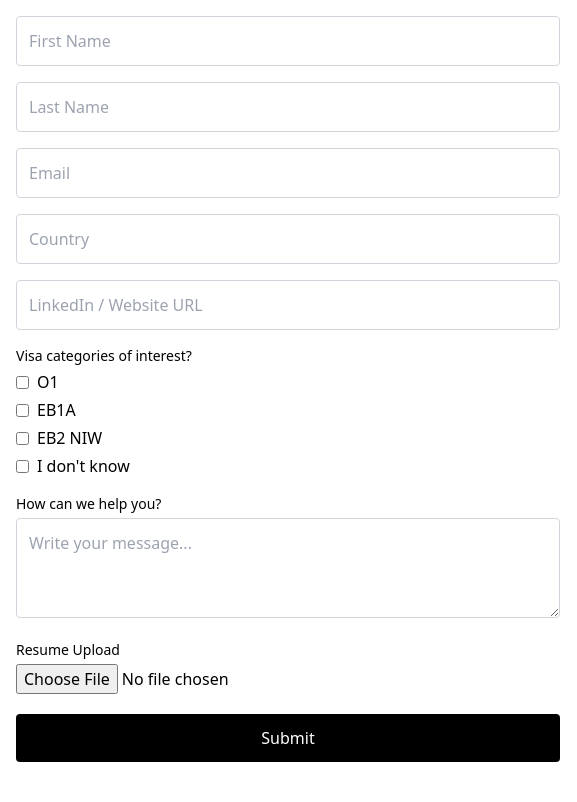
Test case: LeadFormPage › should show validation errors if form is submitted empty
(page scrolled)
What coordinates should you click on to do the following:
click the button "Submit"
I would click on:
 (288, 738)
Its box is [16,714,560,762].
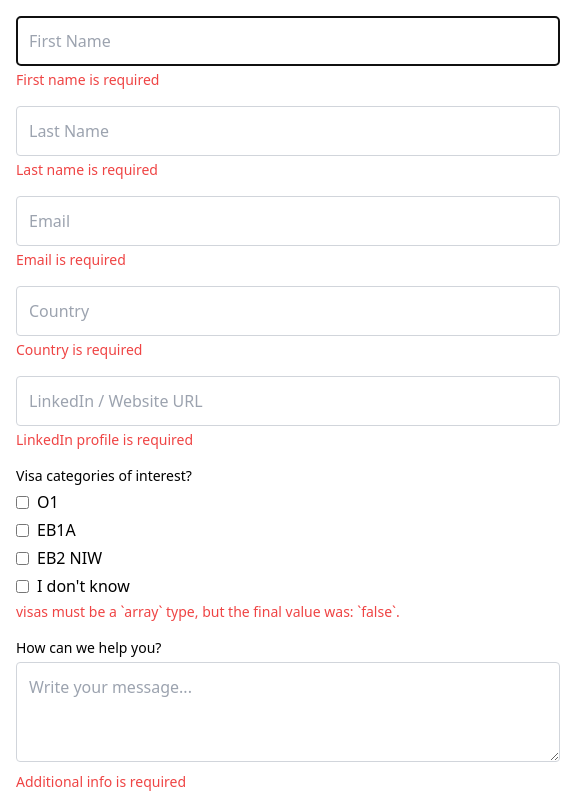
Now the text "First name is required" is shown, box [16,70,159,89]
Now the text "Last name is required" is shown, box [16,160,158,179]
Now the text "Email is required" is shown, box [16,250,126,269]
